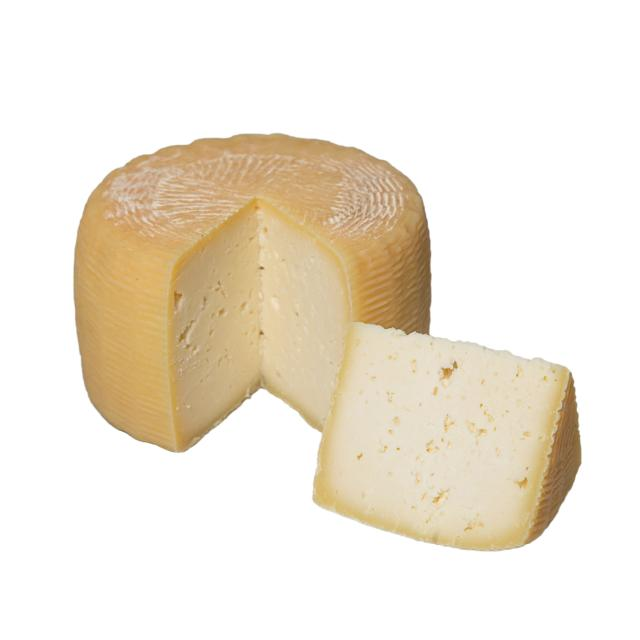Cheese: (69, 131, 429, 471), (282, 310, 574, 563)
